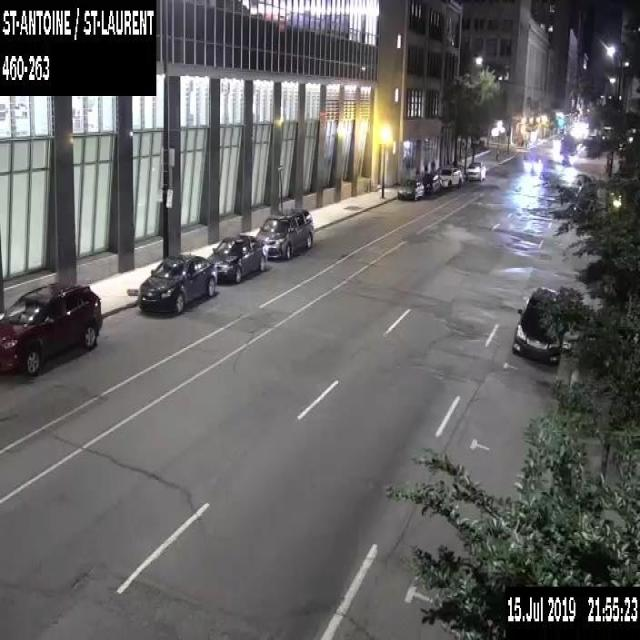pedestrian: (422, 156, 428, 173), (430, 157, 434, 170)
vehicle: (0, 280, 103, 379), (137, 253, 217, 315), (512, 284, 563, 365), (205, 233, 267, 282), (255, 206, 313, 258), (397, 178, 424, 202), (436, 166, 462, 188), (416, 171, 439, 193), (464, 160, 487, 181), (526, 156, 542, 173)
